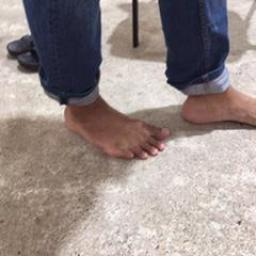Lateral View -Right Foot-: (51, 76, 172, 175)
